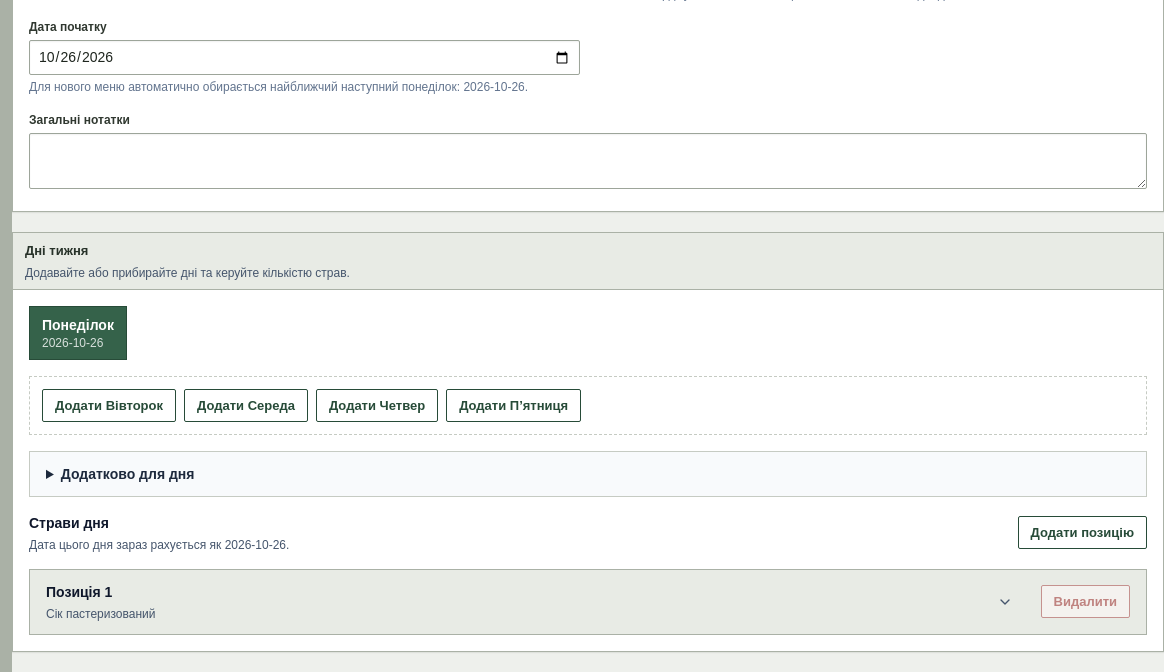
Test: WeeklyMenuEditorForm › shows selected state for industrial products
The width and height of the screenshot is (1164, 672).
(page scrolled)
What coordinates should you click on to do the following:
click the button "Позиція 1 Сік пастеризований"
I would click on:
 (75, 592)
Its box is [30, 570, 1028, 634].
(page scrolled)
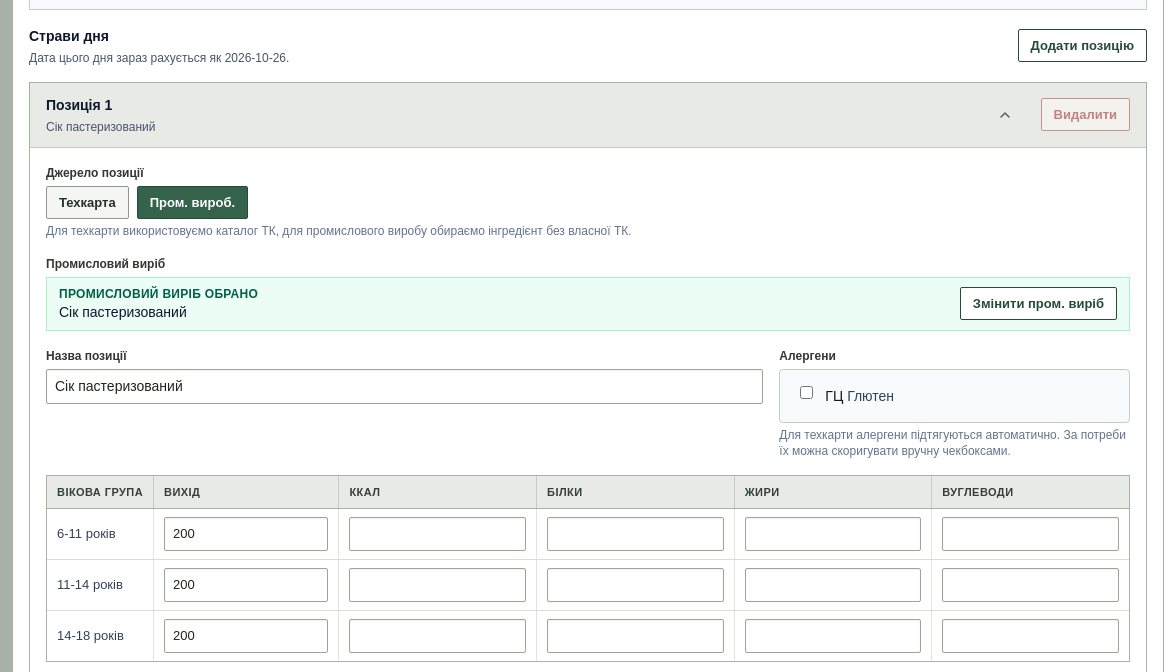
Expected: the text "Сік пастеризований" is shown 2 times, [46, 118, 156, 134]; [59, 304, 187, 320]
Expected: the text "Промисловий виріб обрано" is shown, [59, 286, 258, 302]
